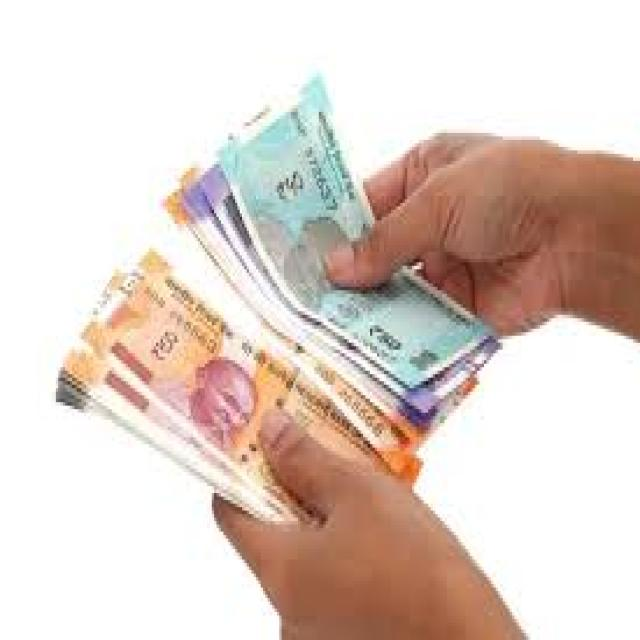money: (226, 61, 497, 392)
